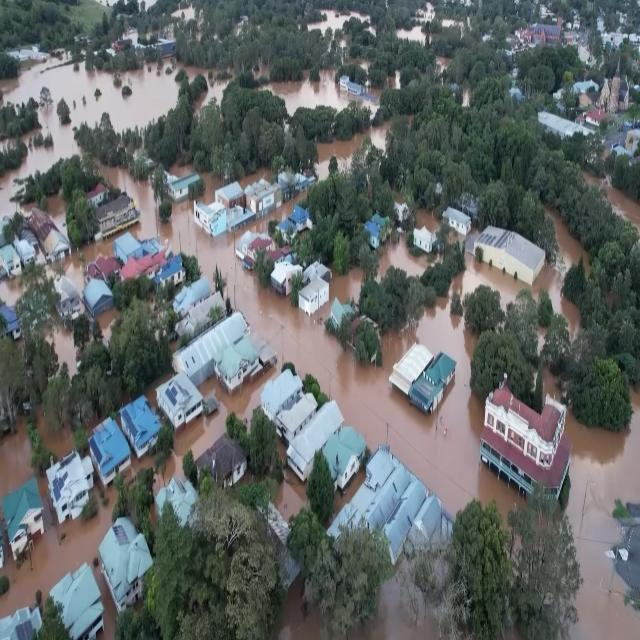flood: (101, 168, 522, 514), (0, 58, 228, 214), (568, 390, 640, 640), (0, 478, 111, 618), (276, 561, 442, 640), (164, 371, 270, 480), (533, 212, 588, 332), (264, 69, 381, 114), (318, 124, 390, 178), (46, 238, 112, 292), (452, 256, 522, 302), (586, 172, 640, 230), (0, 421, 30, 500), (380, 236, 432, 276), (275, 482, 306, 522), (40, 421, 72, 458), (98, 571, 115, 640), (53, 327, 77, 372), (331, 268, 362, 300), (315, 10, 358, 30), (0, 276, 24, 306), (46, 194, 65, 230), (100, 310, 119, 340), (400, 26, 421, 39)
house: (480, 362, 569, 504), (359, 446, 440, 555), (273, 395, 344, 490), (170, 310, 254, 382), (100, 518, 160, 618), (46, 558, 110, 640), (392, 340, 456, 416), (479, 223, 544, 291), (0, 472, 44, 568), (44, 451, 99, 527), (87, 417, 134, 482), (119, 395, 165, 460), (88, 185, 142, 239), (214, 342, 260, 397), (260, 368, 304, 421), (236, 171, 282, 221), (294, 260, 329, 322), (197, 196, 236, 242), (34, 208, 66, 264), (165, 163, 203, 206), (412, 206, 442, 256), (266, 254, 297, 300), (443, 202, 473, 248), (83, 277, 115, 319), (130, 145, 158, 183), (153, 258, 188, 288), (215, 181, 246, 211), (338, 76, 368, 98)
